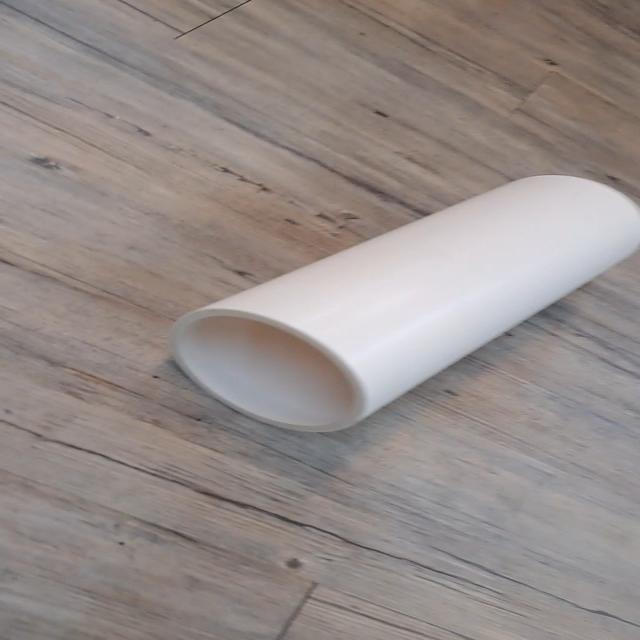CORAL: (167, 164, 639, 445)
